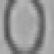no answer: (3, 0, 46, 51)
